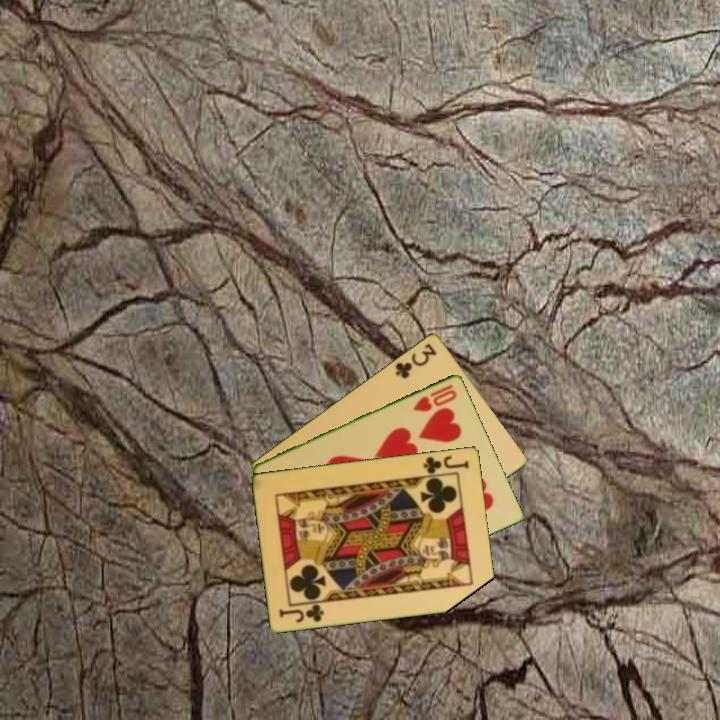10h: (410, 380, 460, 414)
3c: (392, 339, 440, 381)
Jc: (420, 452, 472, 476), (276, 601, 327, 625)
